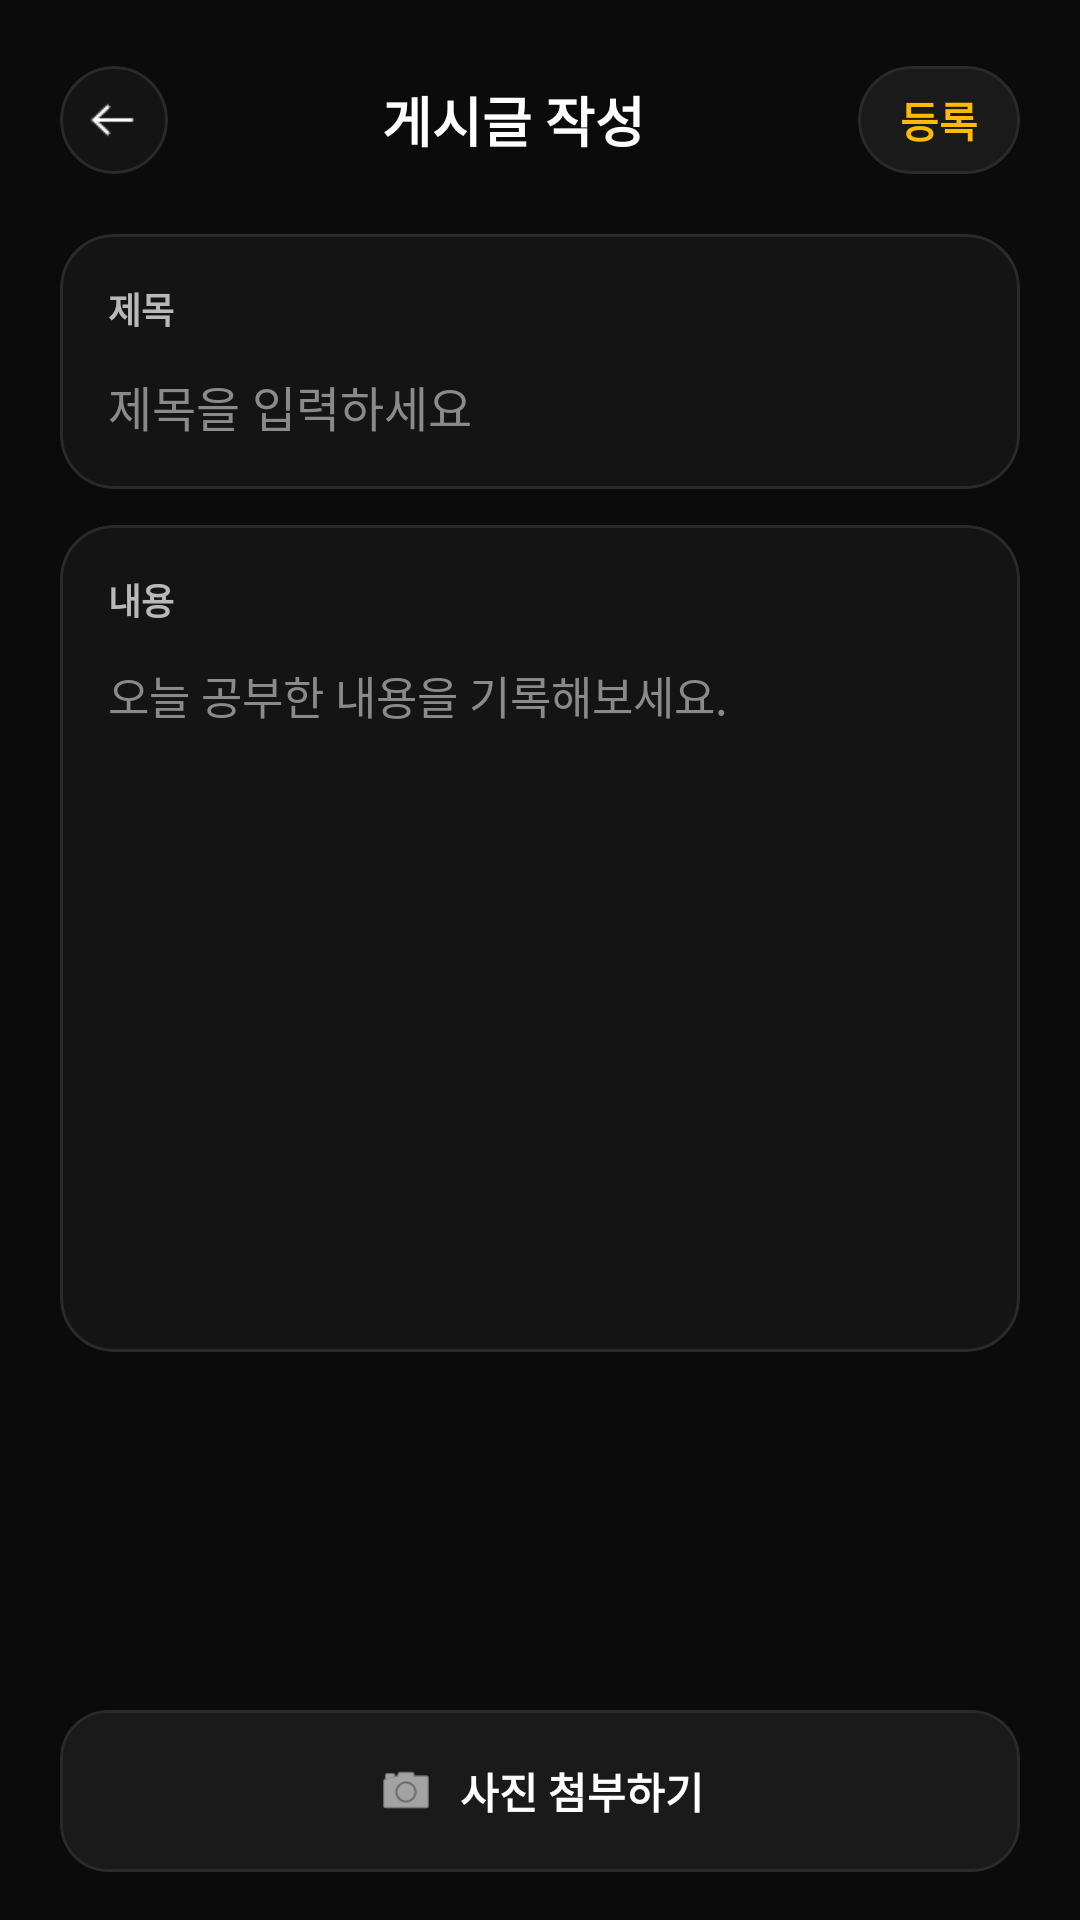

Where icons sit on this 1080×1920 app screen, as (x1, y1, x2, y2):
back: (60, 66, 168, 174)
camera: (383, 1772, 429, 1809)
